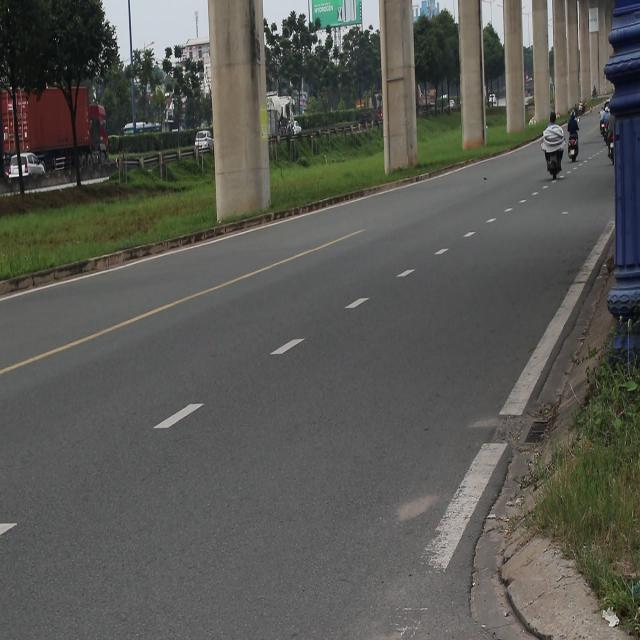car: (7, 154, 49, 188), (122, 123, 158, 138), (195, 130, 212, 151)
motorbike: (566, 126, 582, 170), (604, 133, 618, 174), (546, 150, 562, 185), (594, 115, 609, 142)
truck: (2, 78, 107, 162)
